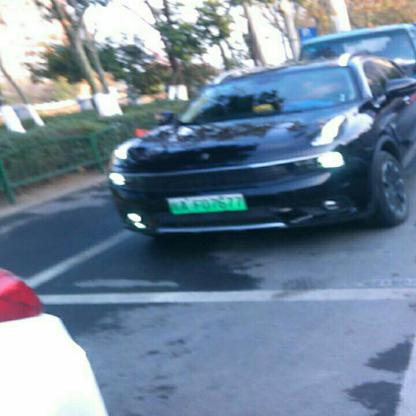lp: (165, 191, 248, 215)
